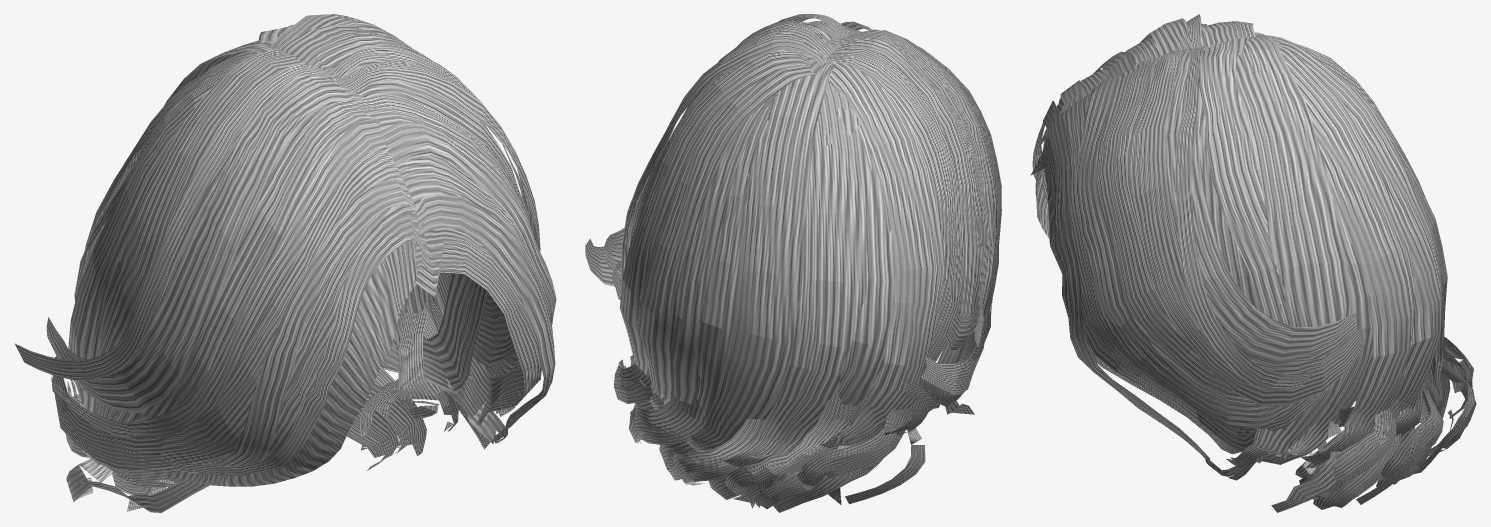
Rendered from daz_hair_wavy_bob.glb.
3 views of the same model, side by side, from view 1: azimuth 30°, elevation 25°; view 2: azimuth 150°, elevation 25°; view 3: azimuth 270°, elevation 25° (orthographic). The views are drawn at different scales.
Visible parts, largest first — view 1: daz_hair_wavy_bob; view 2: daz_hair_wavy_bob; view 3: daz_hair_wavy_bob.
Part boxes in pixels (box(x1,y1,x2,y2)): daz_hair_wavy_bob: box(14, 14, 556, 512); daz_hair_wavy_bob: box(585, 14, 1001, 512); daz_hair_wavy_bob: box(1030, 14, 1476, 512).
Size of the model in its own units: 0.2517 by 0.2485 by 0.2373.
Materials: 1 (1 with a texture image).
